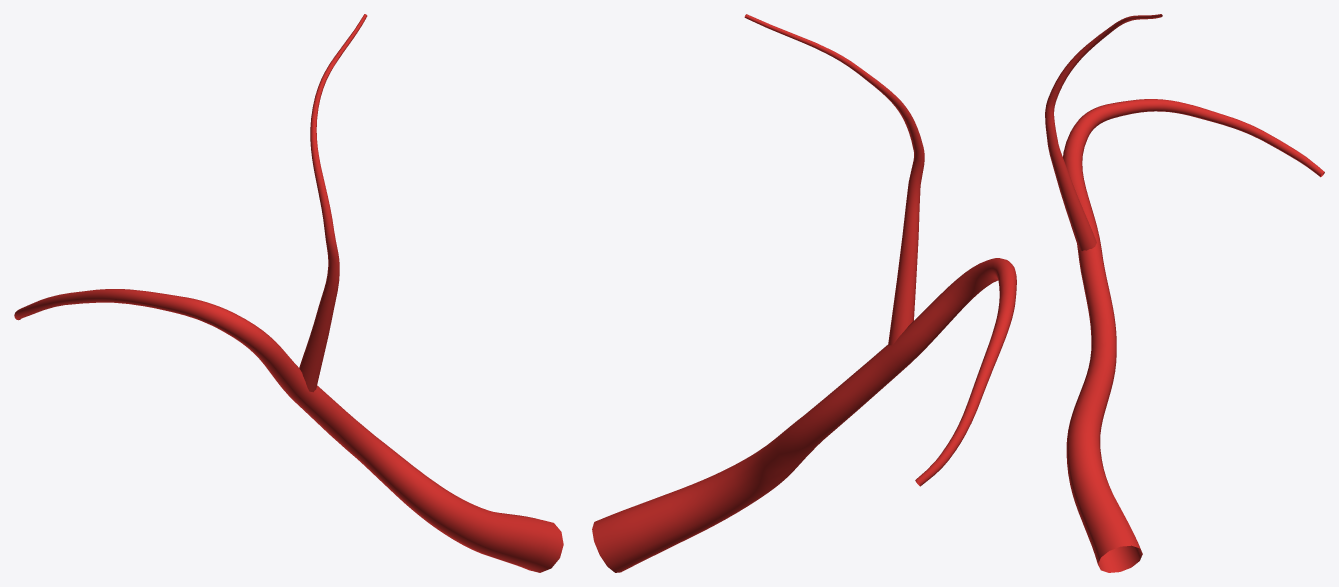
Rendered from circulatorio-anterior-circumflex-humeral-vein-r.glb.
3 renders of one model, left to right at view 1: azimuth 30°, elevation 25°; view 2: azimuth 150°, elevation 25°; view 3: azimuth 270°, elevation 25°, orthographic. The views are drawn at different scales.
Visible parts, largest first — view 1: Anterior circumflex humeral vein.r; view 2: Anterior circumflex humeral vein.r; view 3: Anterior circumflex humeral vein.r.
Part boxes in pixels (x1,y1,x2,y2): Anterior circumflex humeral vein.r: [14, 14, 563, 572]; Anterior circumflex humeral vein.r: [592, 14, 1016, 572]; Anterior circumflex humeral vein.r: [1045, 14, 1324, 572].
Size of the model in its own units: 0.0516 by 0.0646 by 0.0329.
